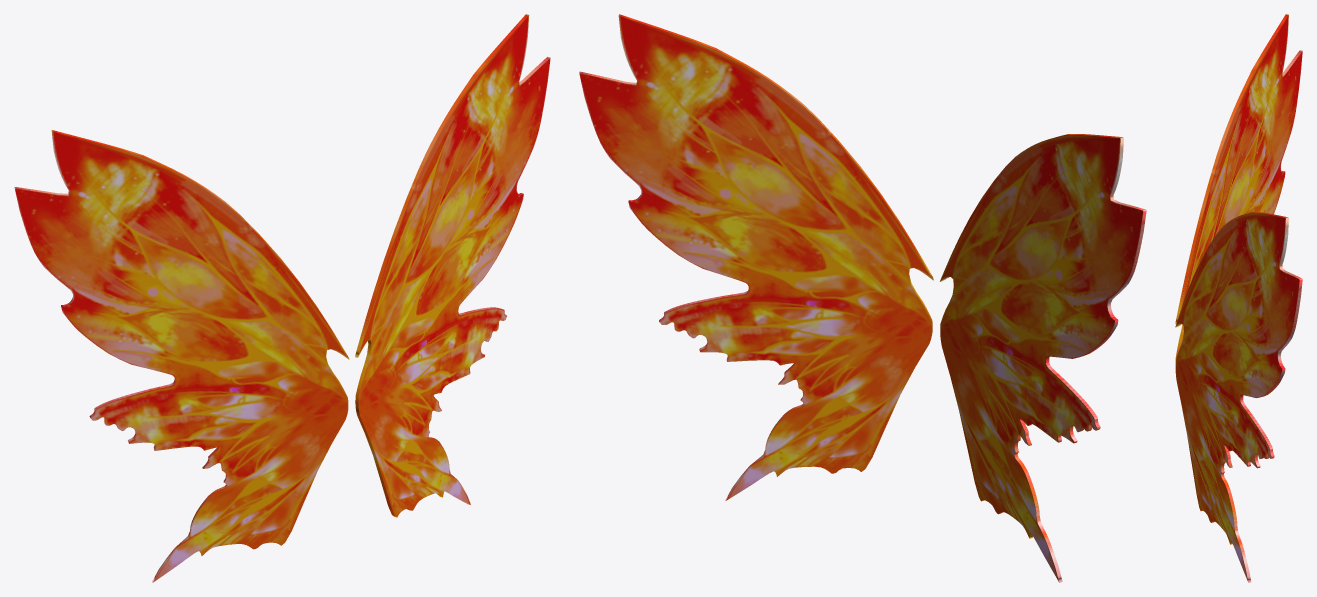
The model's file is Fairy_Wings_04.fbx.
3 views of the same model, side by side, from view 1: azimuth 30°, elevation 25°; view 2: azimuth 150°, elevation 25°; view 3: azimuth 270°, elevation 25° (orthographic). The views are drawn at different scales.
Visible parts, largest first — view 1: FairyWings; view 2: FairyWings; view 3: FairyWings.
Part boxes in pixels (left/top/right/bottom): FairyWings: left=14, top=14, right=550, bottom=582; FairyWings: left=579, top=14, right=1146, bottom=582; FairyWings: left=1175, top=14, right=1302, bottom=582.
Size of the model in its own units: 10.84 by 8.8 by 2.55.
Materials: 1 (1 with a texture image).
